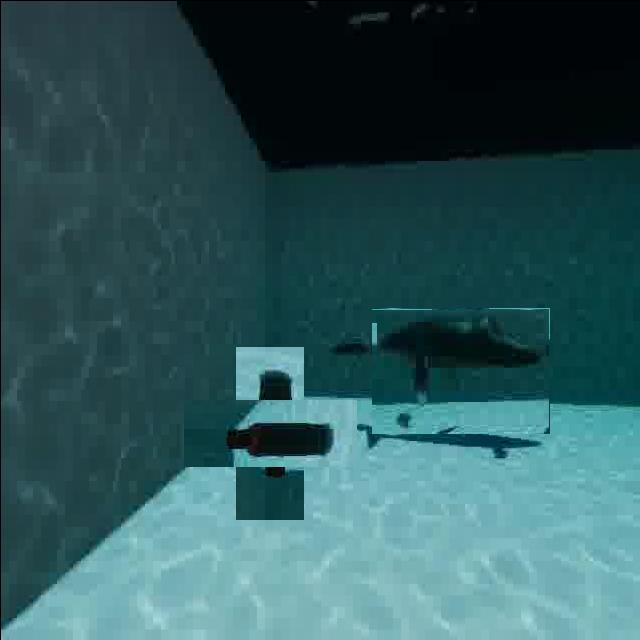Cylinder: (208, 372, 329, 492)
Whale: (371, 307, 549, 433), (325, 322, 376, 370)
